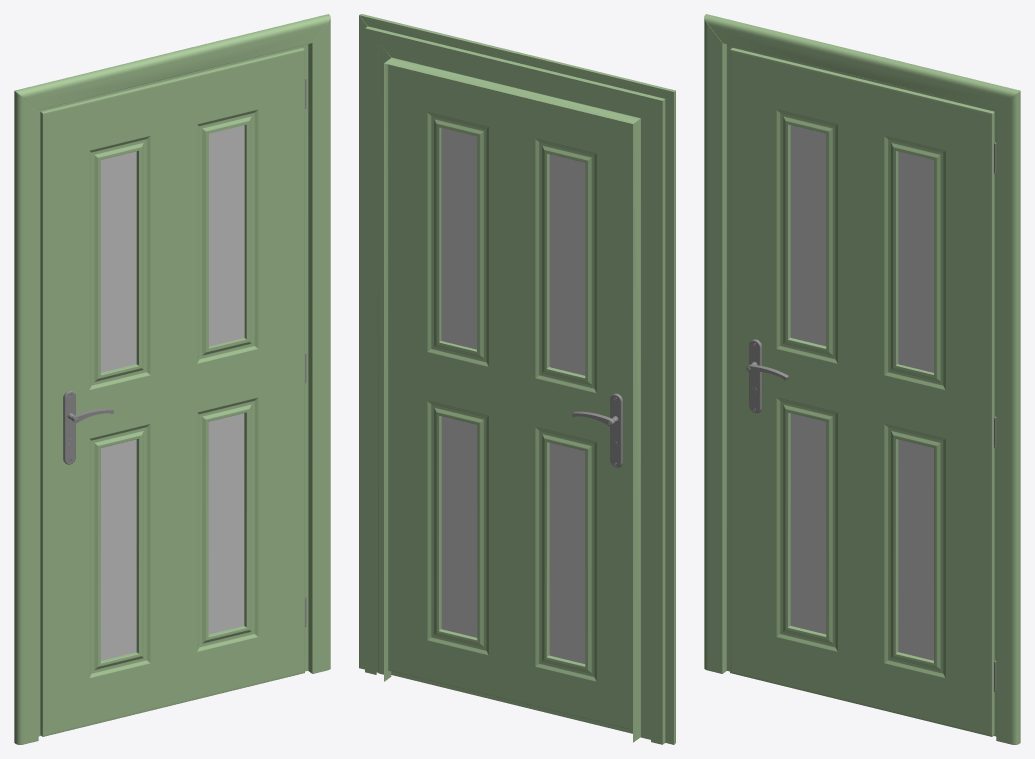
Rendered from door013.FBX.
The picture shows the model from 3 angles, left to right: view 1: azimuth 30°, elevation 25°; view 2: azimuth 150°, elevation 25°; view 3: azimuth 330°, elevation 25°; orthographic projection.
Parts seen in each view (by area): view 1: door01302, door01300, ru4ka_012; view 2: door01302, door01300, ru4ka_010; view 3: door01302, door01300, ru4ka_012.
Part boxes in pixels (bbox=[...]): door01302: bbox=[14, 14, 330, 744]; door01300: bbox=[101, 125, 244, 660]; ru4ka_012: bbox=[63, 390, 78, 464]; door01302: bbox=[359, 14, 675, 744]; door01300: bbox=[441, 128, 585, 663]; ru4ka_010: bbox=[607, 393, 622, 467]; door01302: bbox=[704, 14, 1020, 744]; door01300: bbox=[790, 125, 933, 660]; ru4ka_012: bbox=[746, 339, 761, 413].
Bounding box in the file's own units: 42.52 × 84.25 × 5.21.
